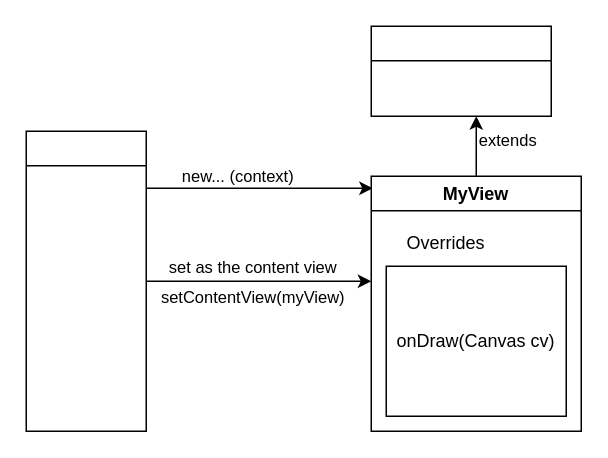
The diagram is 608 pixels wide and 458 high, and some of its shapes have lost their labels. Each missing label, with the centre of its shape:
"Activity" belongs at point (85, 280).
"View" belongs at point (460, 70).
